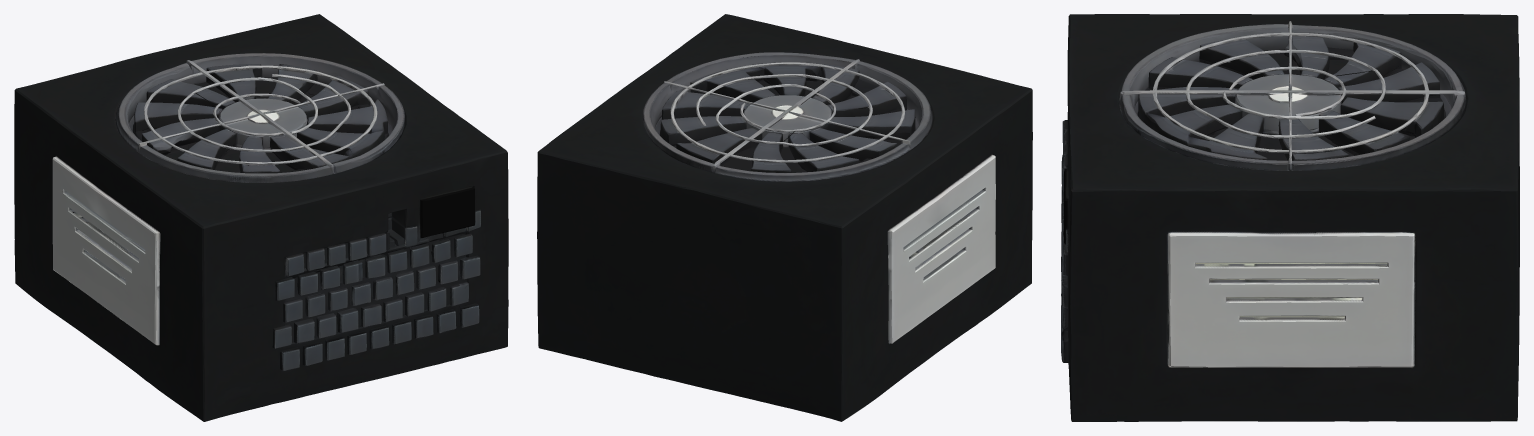
Rendered from psu.fbx.
The picture shows the model from 3 angles, left to right: view 1: azimuth 30°, elevation 25°; view 2: azimuth 150°, elevation 25°; view 3: azimuth 270°, elevation 25°; orthographic projection. The views are drawn at different scales.
Visible parts, largest first — view 1: model; view 2: model; view 3: model.
Part boxes in pixels (x1,y1,x2,y2): model: (14,14,508,421); model: (537,14,1032,421); model: (1061,14,1519,421).
Size of the model in its own units: 179 by 112 by 190.
1 material, 1 textured.
